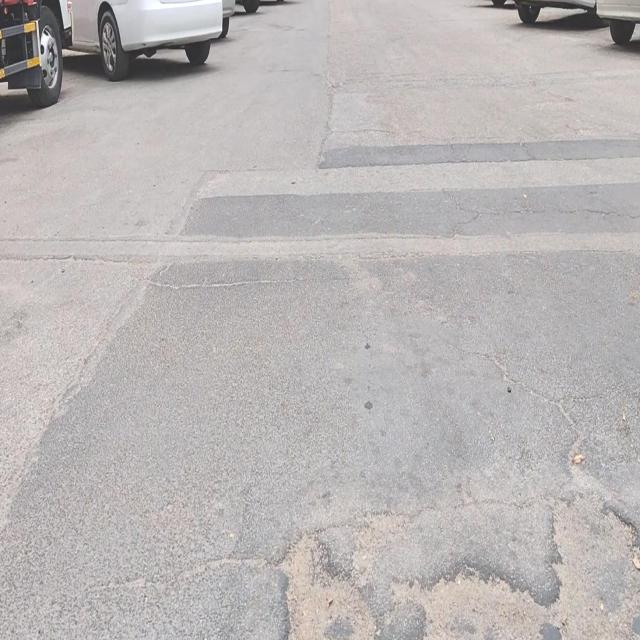Potholes: (387, 558, 565, 640), (278, 529, 379, 640)
